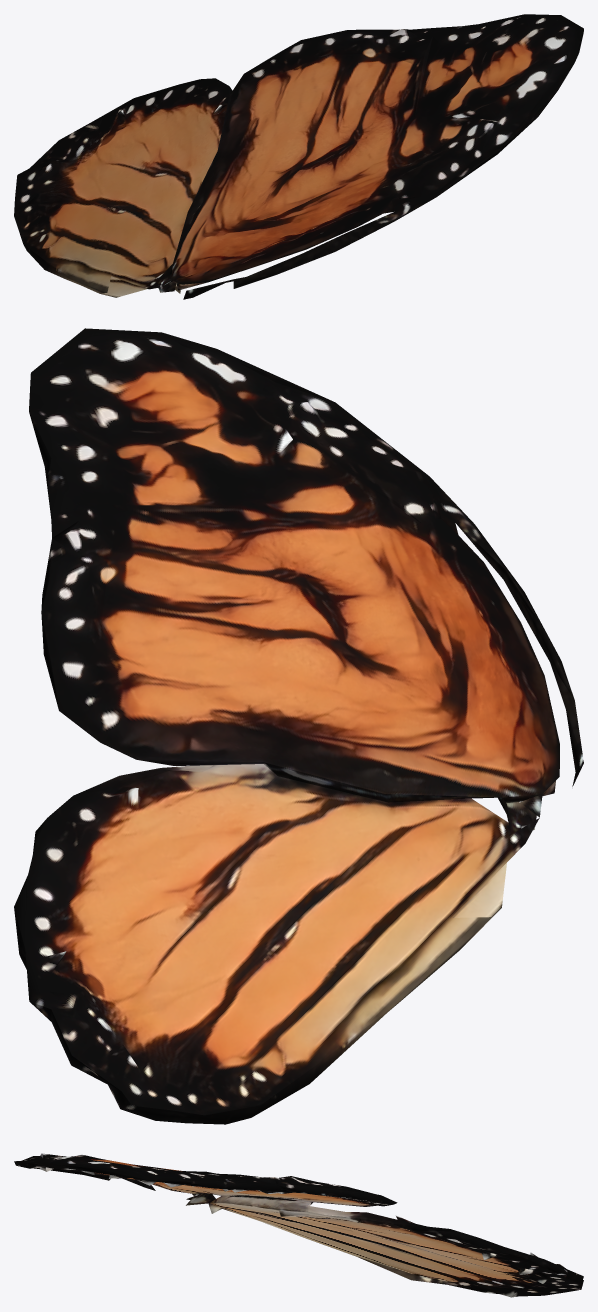
The model's file is mariposa_ala_izq.obj.
3 views of the same model, one above another, from view 1: azimuth 30°, elevation 25°; view 2: azimuth 150°, elevation 25°; view 3: azimuth 270°, elevation 25° (orthographic). The views are drawn at different scales.
Parts seen in each view (by area): view 1: alaIzq; view 2: alaIzq; view 3: alaIzq.
Part boxes in pixels (bbox=[...]): alaIzq: bbox=[14, 14, 583, 299]; alaIzq: bbox=[14, 328, 583, 1124]; alaIzq: bbox=[14, 1153, 583, 1297].
Size of the model in its own units: 0.9626 by 0.7191 by 1.35.
1 material, 1 textured.
